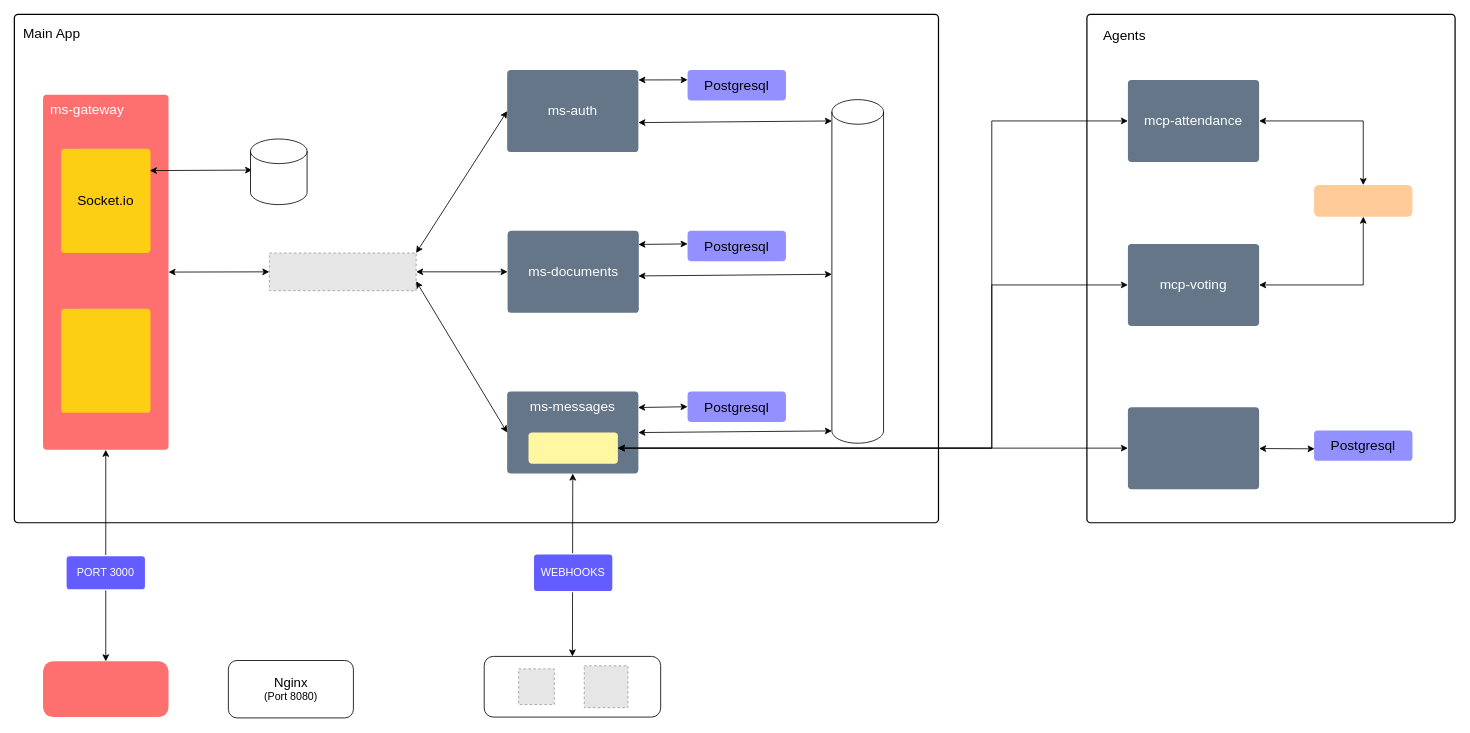
Image size: 1470x733. Some labels were removed from this diagram. Grey dashed boxes stand in for pictures. Each missing label, with the centre of its shape:
Clientes: (105,688)
LangGraph: (573,448)
mcp-budget: (1193,447)
Qdrant: (1363,200)
Redis (Sesiones): (857,271)
Redis (Socket.io): (278,171)
REST: (105,360)
